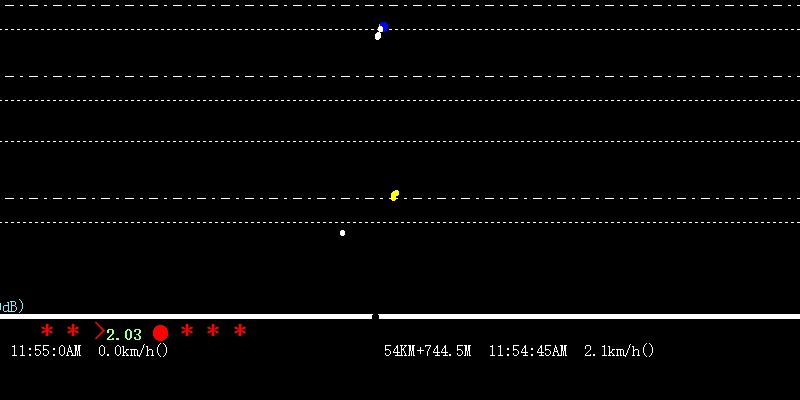circle: (148, 321, 172, 344)
face_2: (373, 19, 391, 43)
star: (229, 320, 248, 340), (39, 320, 56, 340), (178, 321, 195, 340), (66, 320, 81, 341), (206, 320, 221, 340)
